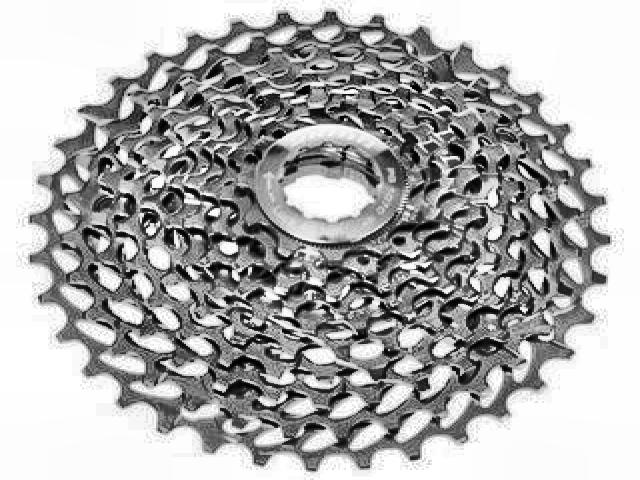cassette: (27, 11, 611, 466)
